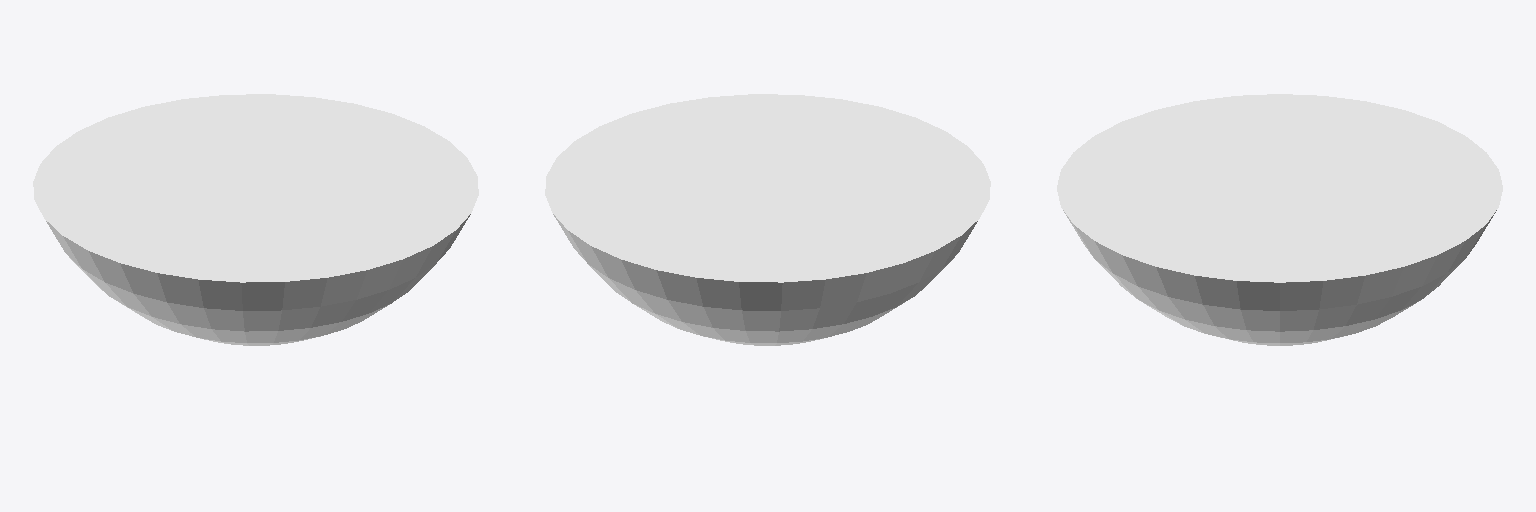
File: plafoniera.obj
3 renders of one model, left to right at view 1: azimuth 30°, elevation 25°; view 2: azimuth 150°, elevation 25°; view 3: azimuth 270°, elevation 25°, orthographic.
Visible parts, largest first — view 1: Sphere02; view 2: Sphere02; view 3: Sphere02.
Part boxes in pixels (bbox=[...]): Sphere02: bbox=[33, 94, 478, 345]; Sphere02: bbox=[545, 94, 990, 345]; Sphere02: bbox=[1057, 94, 1502, 345].
Bounding box in the file's own units: 22.17 × 7.41 × 22.17.